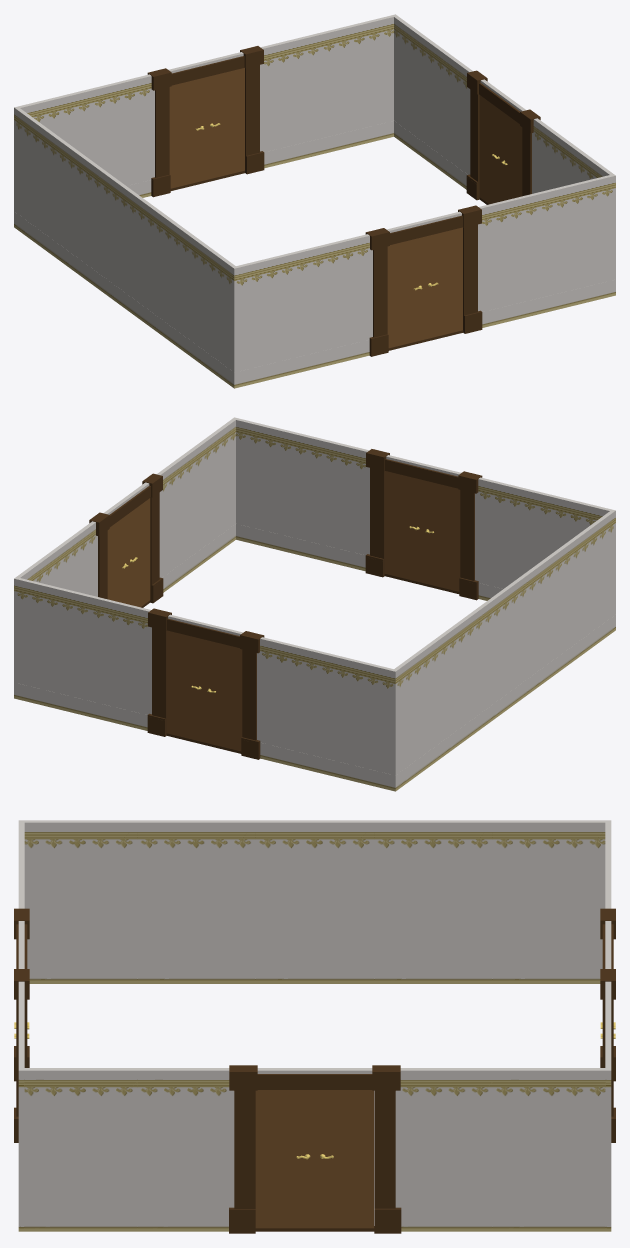
File: Geo_Room5x5_3Doors_01.fbx
The picture shows the model from 3 angles, top to bottom: view 1: azimuth 30°, elevation 25°; view 2: azimuth 150°, elevation 25°; view 3: azimuth 270°, elevation 25°; orthographic projection. The views are drawn at different scales.
Parts seen in each view (by area): view 1: geo_wallTopx5_02 (×2), geo_wallTopx5_05, geo_wallTopx5_06, geo_door_R (×3), geo_door_L (×3), geo_wallCulledx5_02 (×2), geo_wallCulledx5_05, geo_doorFrameSide_05 (×2), geo_doorFrameSide_01 (×2), geo_doorFrameTop_01 (×2), geo_wallCulledx5_06, geo_doorFrameSide_010 (+2 smaller); view 2: geo_wallTopx5_02 (×2), geo_wallTopx5_05, geo_wallTopx5_06, geo_door_L (×3), geo_door_R (×3), geo_wallCulledx5_02 (×2), geo_wallCulledx5_05, geo_doorFrameSide_05 (×2), geo_doorFrameSide_01 (×2), geo_doorFrameTop_01 (×2), geo_wallCulledx5_06, geo_doorFrameSide_013 (+2 smaller); view 3: geo_wallTopx5_05, geo_wallTopx5_06, geo_wallCulledx5_05, geo_wallCulledx5_06, geo_door_L, geo_door_R, geo_wallTopx5_02 (×2), geo_doorFrameSide_010, geo_doorFrameSide_013, geo_doorFrameTop_02, geo_doorFrameSide_05 (×2), geo_doorFrameSide_011 (+3 smaller).
Boxes of the visible parts, x1,y1,x2,y2 form: geo_wallTopx5_02 (×2): [14, 14, 615, 372]; geo_wallTopx5_05: [16, 108, 235, 370]; geo_wallTopx5_06: [392, 14, 614, 193]; geo_door_R (×3): [169, 77, 501, 339]; geo_door_L (×3): [206, 68, 522, 348]; geo_wallCulledx5_02 (×2): [14, 121, 615, 388]; geo_wallCulledx5_05: [16, 213, 231, 386]; geo_doorFrameSide_05 (×2): [245, 65, 477, 315]; geo_doorFrameSide_01 (×2): [155, 87, 387, 337]; geo_doorFrameTop_01 (×2): [171, 56, 462, 244]; geo_wallCulledx5_06: [394, 121, 467, 189]; geo_doorFrameSide_010: [470, 89, 479, 182]; geo_wallTopx5_02 (×2): [14, 417, 615, 775]; geo_wallTopx5_05: [394, 511, 613, 773]; geo_wallTopx5_06: [14, 418, 236, 683]; geo_door_L (×3): [128, 480, 460, 742]; geo_door_R (×3): [107, 471, 422, 751]; geo_wallCulledx5_02 (×2): [17, 524, 615, 791]; geo_wallCulledx5_05: [397, 616, 613, 789]; geo_doorFrameSide_05 (×2): [152, 468, 384, 718]; geo_doorFrameSide_01 (×2): [242, 490, 474, 740]; geo_doorFrameTop_01 (×2): [167, 459, 458, 647]; geo_wallCulledx5_06: [14, 524, 235, 699]; geo_doorFrameSide_013: [150, 492, 159, 584]; geo_wallTopx5_05: [18, 820, 610, 962]; geo_wallTopx5_06: [24, 1068, 609, 1210]; geo_wallCulledx5_05: [27, 962, 602, 983]; geo_wallCulledx5_06: [24, 1210, 605, 1231]; geo_door_L: [255, 1090, 314, 1228]; geo_door_R: [315, 1090, 373, 1228]; geo_wallTopx5_02 (×2): [18, 820, 611, 1210]; geo_doorFrameSide_010: [374, 1090, 395, 1208]; geo_doorFrameSide_013: [234, 1090, 255, 1208]; geo_doorFrameTop_02: [257, 1074, 372, 1089]; geo_doorFrameSide_05 (×2): [16, 999, 613, 1116]; geo_doorFrameSide_011: [372, 1065, 400, 1090].
Bounding box in the file's own units: 504 × 151 × 508.
5 materials, 1 textured.
